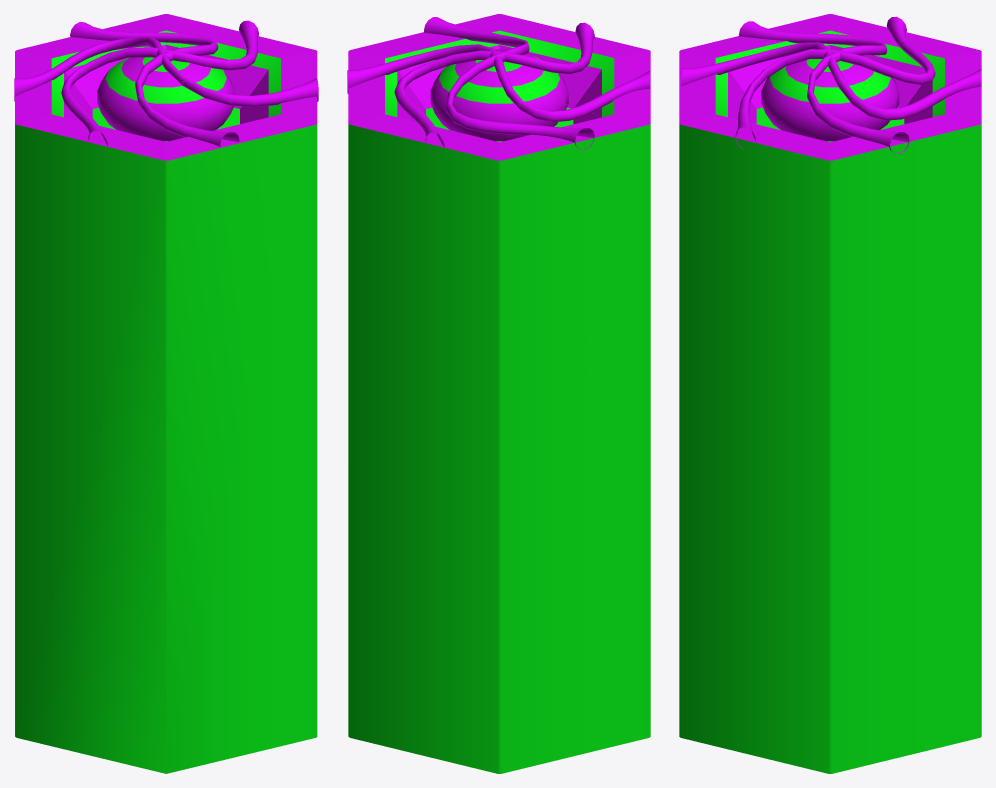
File: WierdHex.FBX
3 renders of one model, left to right at view 1: azimuth 30°, elevation 25°; view 2: azimuth 150°, elevation 25°; view 3: azimuth 270°, elevation 25°, orthographic.
Parts seen in each view (by area): view 1: Object138; view 2: Object138; view 3: Object138.
Boxes of the visible parts, left/top/right/bottom form: Object138: left=14, top=14, right=318, bottom=773; Object138: left=347, top=14, right=650, bottom=773; Object138: left=679, top=14, right=981, bottom=773.
Size of the model in its own units: 250 by 218 by 516.
